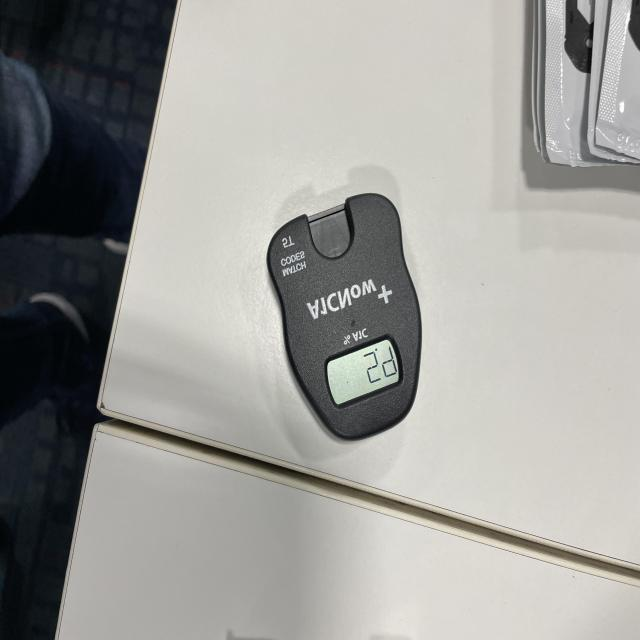hba1c: (267, 194, 423, 444)
